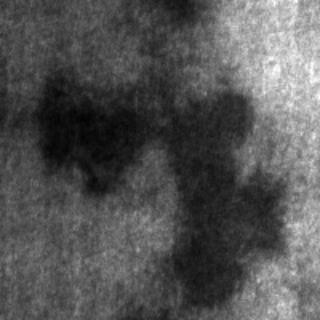patches: (157, 80, 285, 302), (32, 75, 160, 195)
